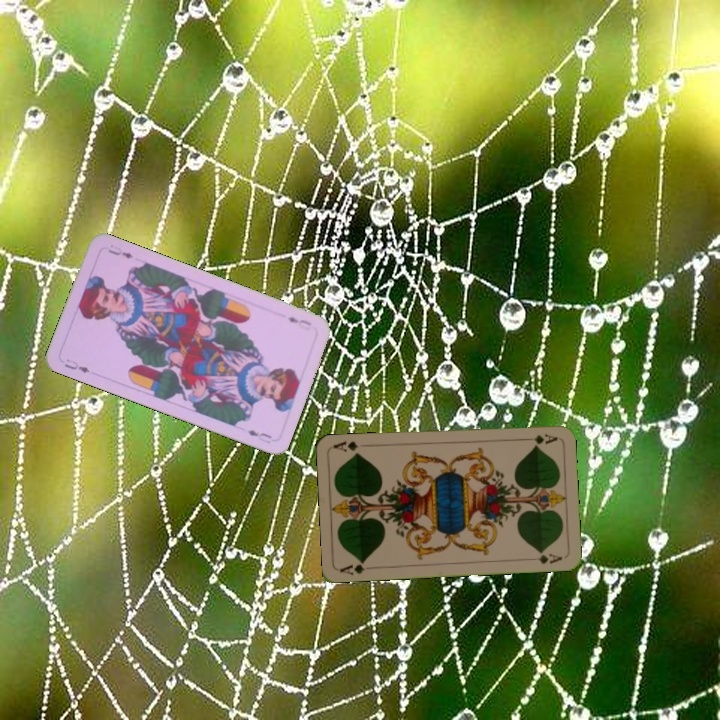EU: (61, 355, 93, 376), (283, 312, 314, 333)
GA: (519, 429, 560, 447), (337, 557, 368, 577)
